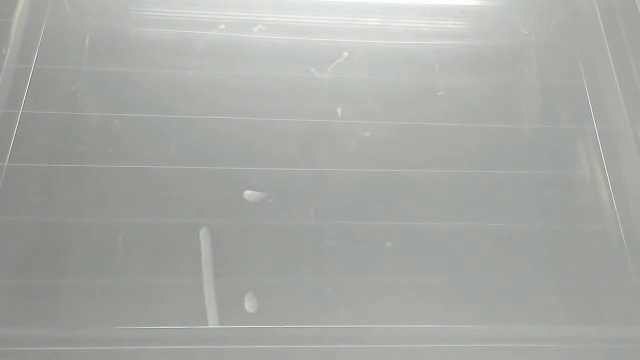alpha: (193, 223, 223, 332), (239, 186, 270, 208), (240, 288, 260, 316)
